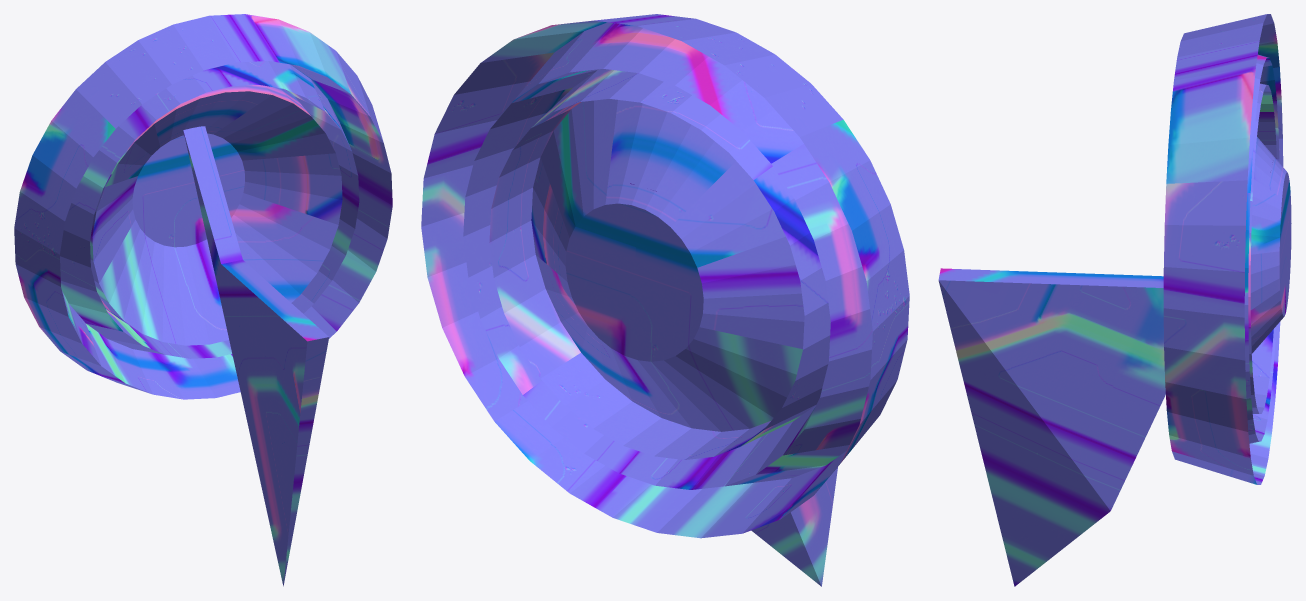
The model's file is radar19.obj.
3 views of the same model, side by side, from view 1: azimuth 30°, elevation 25°; view 2: azimuth 150°, elevation 25°; view 3: azimuth 270°, elevation 25° (orthographic). The views are drawn at different scales.
Visible parts, largest first — view 1: radar; view 2: radar; view 3: radar.
Boxes of the visible parts, bbox=[...] form: radar: bbox=[14, 14, 392, 586]; radar: bbox=[421, 14, 909, 586]; radar: bbox=[938, 14, 1291, 586].
Size of the model in its own units: 0.9847 by 1.3 by 0.7376.
